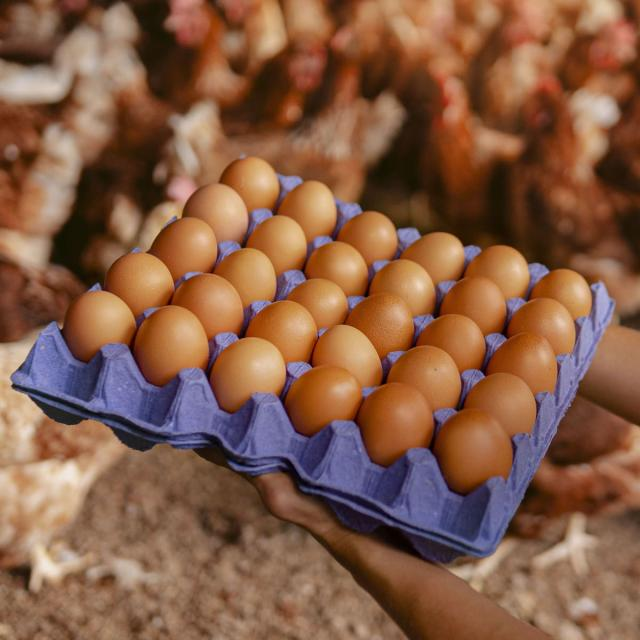huevos: (59, 278, 142, 362)
